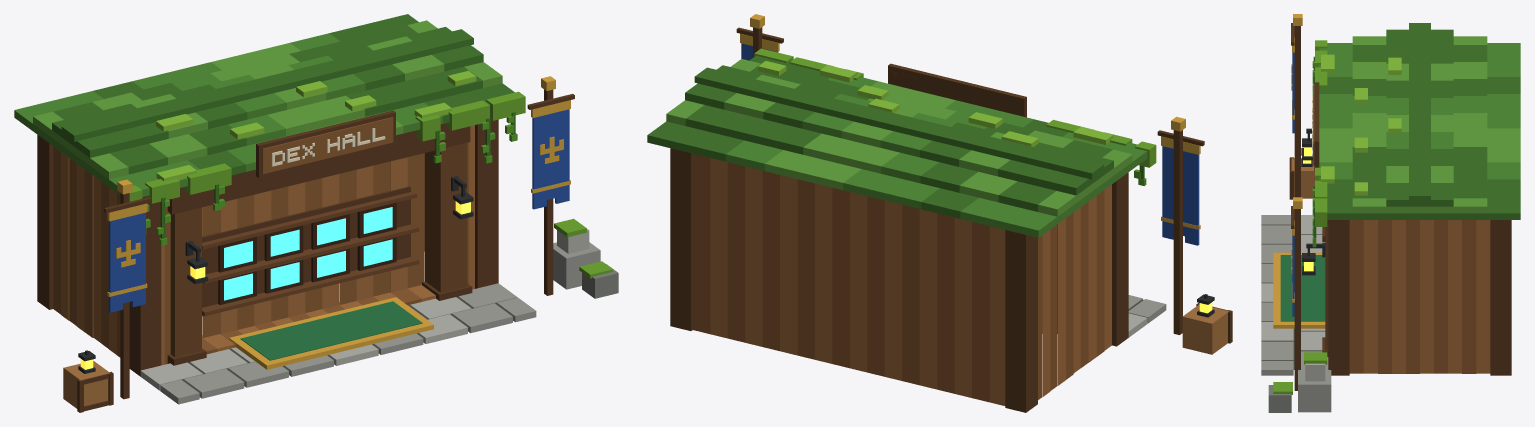
Rendered from Lobby_DexHall.glb.
3 renders of one model, left to right at view 1: azimuth 30°, elevation 25°; view 2: azimuth 150°, elevation 25°; view 3: azimuth 270°, elevation 25°, orthographic. The views are drawn at different scales.
Parts seen in each view (by area): view 1: roof_shingles_shingle_dark, walls_wood, walls_wood_light, roof_shingles_shingle_light, corner_posts, front_posts_wood_post, roof_shingles_shingle, roof_ridge, porch_step_stone, banners, shelves, lintel (+25 smaller); view 2: walls_wood_light, walls_wood, roof_shingles_shingle_dark, corner_posts, roof_shingles_shingle_light, roof_shingles_shingle, roof_ridge, sign_frame, banners, banner_poles, roof_moss_moss_light, crates (+3 smaller); view 3: roof_shingles_shingle_dark, walls_wood_light, walls_wood, roof_shingles_shingle_light, roof_shingles_shingle, corner_posts, roof_ridge, porch_step_stone, banner_poles, rug, porch_stone_light, roof_moss_moss (+11 smaller).
Boxes of the visible parts, x1,y1,x2,y2 form: roof_shingles_shingle_dark: (52, 14, 514, 175); walls_wood: (53, 142, 468, 364); walls_wood_light: (61, 125, 474, 365); roof_shingles_shingle_light: (33, 20, 502, 179); corner_posts: (37, 119, 498, 376); front_posts_wood_post: (170, 143, 467, 357); roof_shingles_shingle: (14, 33, 442, 196); roof_ridge: (61, 29, 473, 141); porch_step_stone: (160, 283, 536, 404); banners: (108, 109, 569, 312); shelves: (202, 191, 419, 316); lintel: (167, 123, 470, 214); walls_wood_light: (710, 158, 1111, 405); walls_wood: (692, 154, 1104, 402); roof_shingles_shingle_dark: (647, 56, 1113, 218); corner_posts: (670, 148, 1128, 412); roof_shingles_shingle_light: (666, 59, 1132, 216); roof_shingles_shingle: (725, 77, 1147, 237); roof_ridge: (694, 67, 1104, 179); sign_frame: (888, 63, 1026, 117); banners: (741, 43, 1199, 245); banner_poles: (736, 27, 1204, 334); roof_moss_moss_light: (758, 61, 1113, 146); crates: (1182, 304, 1228, 354); roof_shingles_shingle_dark: (1319, 29, 1520, 219); walls_wood_light: (1363, 220, 1490, 373); walls_wood: (1349, 220, 1476, 373); roof_shingles_shingle_light: (1319, 36, 1520, 213); roof_shingles_shingle: (1319, 43, 1520, 179); corner_posts: (1328, 220, 1511, 375); roof_ridge: (1409, 23, 1430, 201); porch_step_stone: (1261, 215, 1328, 375); banner_poles: (1291, 23, 1300, 390); rug: (1280, 255, 1325, 321); porch_stone_light: (1261, 215, 1325, 350); roof_moss_moss: (1273, 40, 1327, 394).
Size of the model in its own units: 8.84 by 3.44 by 4.25.
